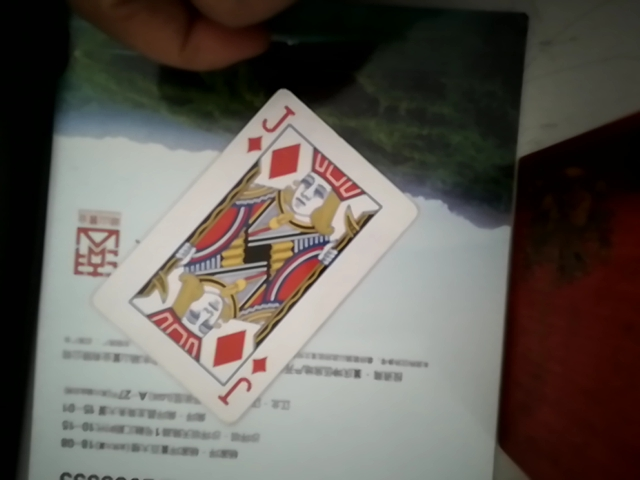fk j: (70, 85, 421, 420)
